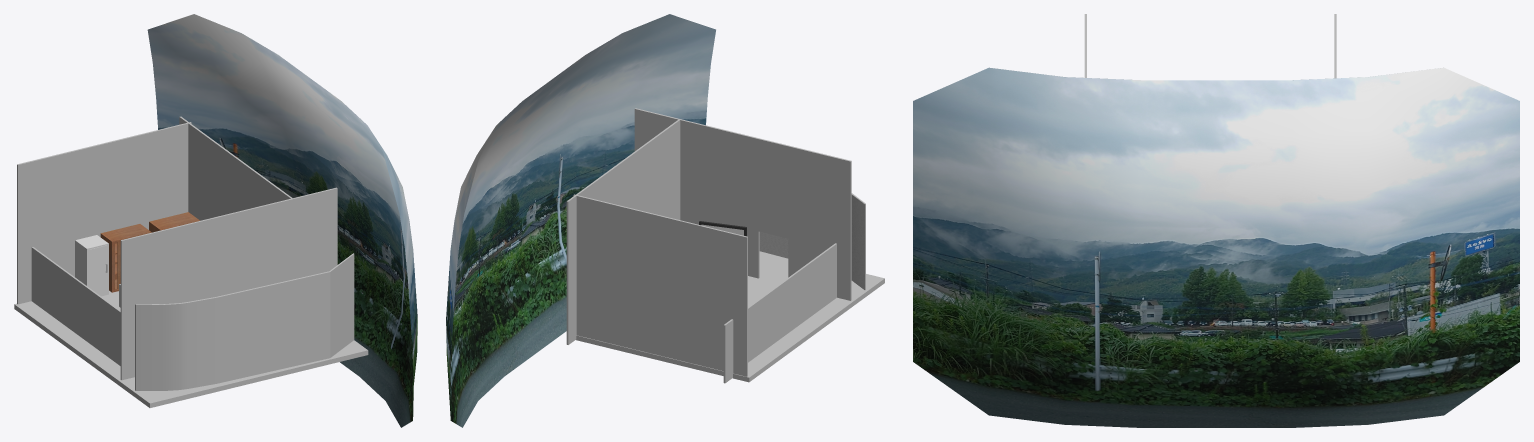
The model's file is stage10_30.fbx.
3 views of the same model, side by side, from view 1: azimuth 30°, elevation 25°; view 2: azimuth 150°, elevation 25°; view 3: azimuth 270°, elevation 25° (orthographic). The views are drawn at different scales.
Parts seen in each view (by area): view 1: polySurface231; view 2: polySurface231; view 3: polySurface231.
Boxes of the visible parts, x1,y1,x2,y2 form: polySurface231: (14,14,417,427); polySurface231: (446,14,884,427); polySurface231: (913,14,1519,427).
Bounding box in the file's own units: 12.39 × 11.21 × 18.28.
